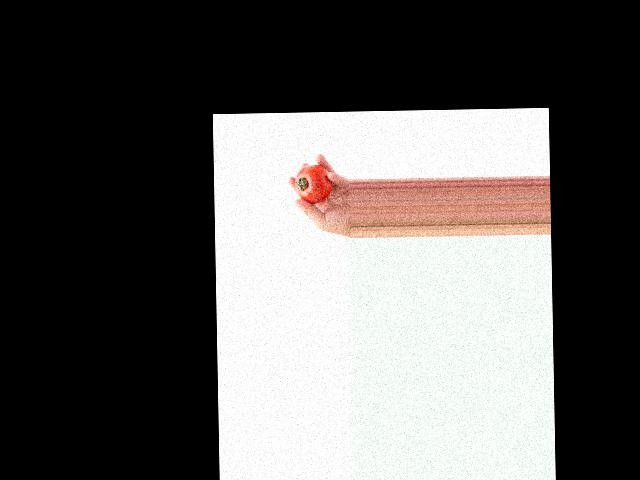tomato: (295, 163, 332, 203)
